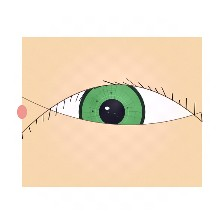pinguecula_lesion: (26, 96, 55, 119)
